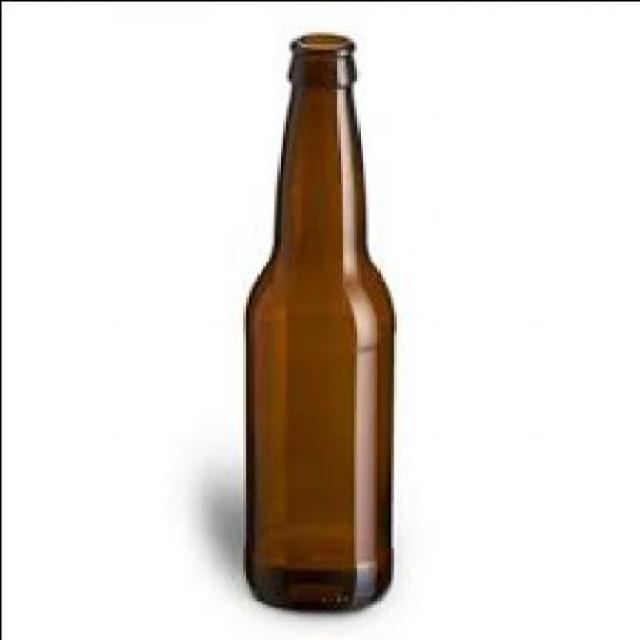GLASS: (242, 31, 396, 606)
